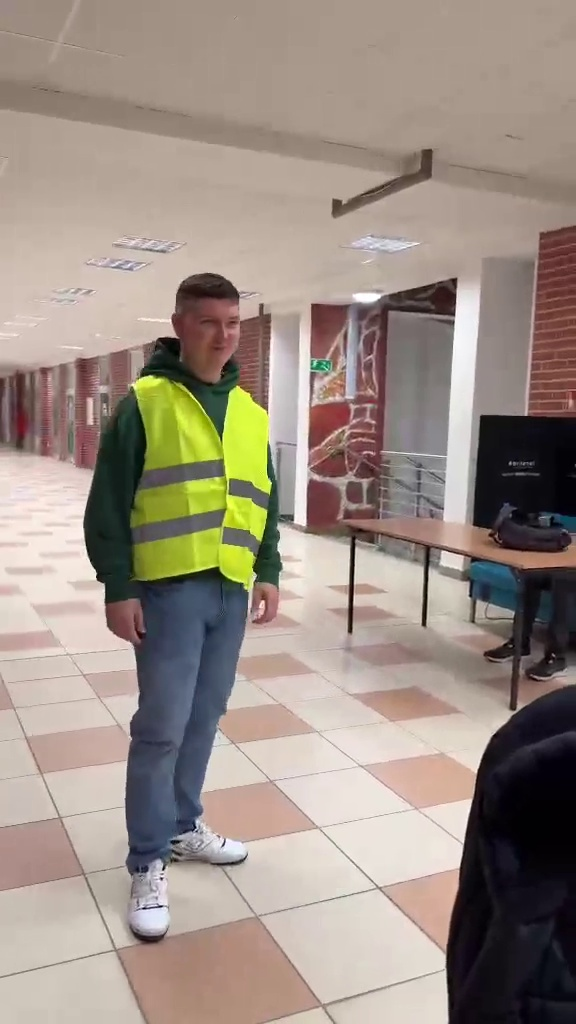vest: (83, 263, 283, 949)
